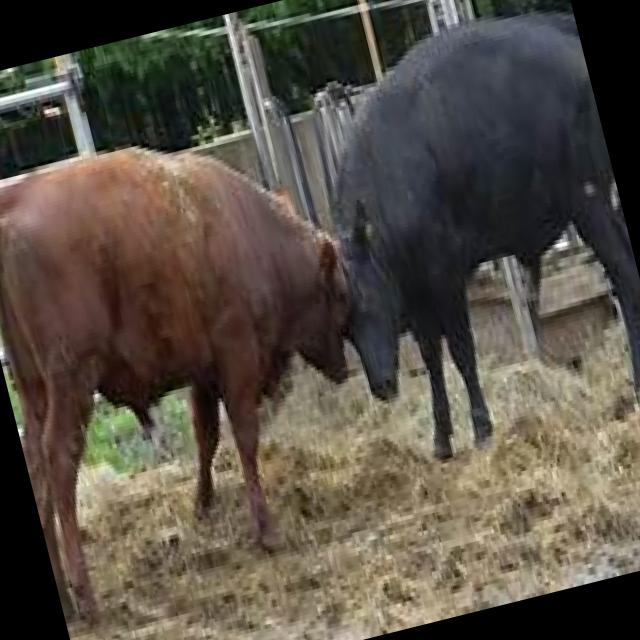animal: (0, 95, 415, 626), (282, 0, 640, 473)
